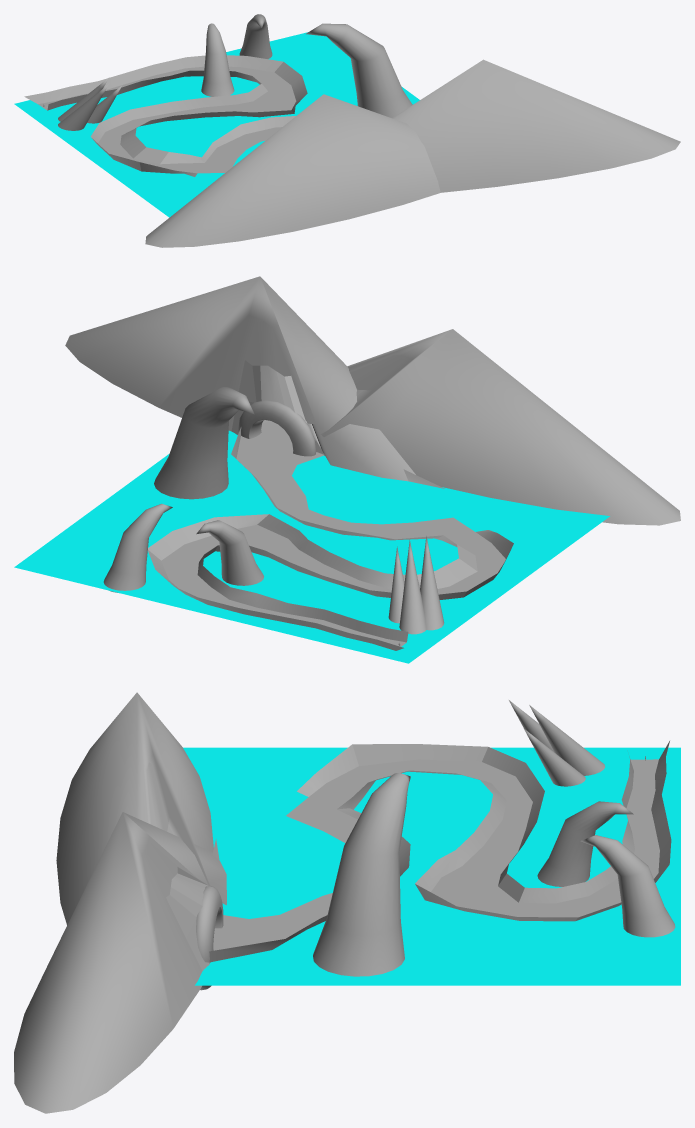
File: map no building.fbx
3 renders of one model, top to bottom at view 1: azimuth 30°, elevation 25°; view 2: azimuth 150°, elevation 25°; view 3: azimuth 270°, elevation 25°, orthographic. The views are drawn at different scales.
Visible parts, largest first — view 1: mountain, mountain1, ground, road, ice_stone1, ice_stone, ice_stone2, icestone1, icestone2; view 2: ground, mountain, mountain1, road, ice_stone1, ice_stone2, ice_stone, cave_entrance, icestone, icestone1, icestone2; view 3: ground, mountain1, road, mountain, ice_stone1, ice_stone2, ice_stone, icestone, cave_entrance, icestone2.
Boxes of the visible parts, x1,y1,x2,y2 form: mountain: (145, 94, 440, 247); mountain1: (392, 59, 680, 192); ground: (14, 32, 419, 217); road: (24, 55, 307, 176); ice_stone1: (306, 23, 412, 117); ice_stone: (201, 23, 234, 96); ice_stone2: (239, 14, 272, 58); icestone1: (58, 84, 108, 130); icestone2: (87, 85, 122, 123); ground: (14, 430, 609, 663); mountain: (315, 329, 680, 525); mountain1: (65, 276, 444, 488); road: (147, 421, 513, 650); ice_stone1: (154, 387, 254, 499); ice_stone2: (103, 503, 172, 592); ice_stone: (196, 520, 263, 585); cave_entrance: (238, 400, 316, 456); icestone: (399, 540, 426, 634); icestone1: (420, 536, 444, 630); icestone2: (388, 546, 404, 623); ground: (183, 747, 680, 985); mountain1: (14, 812, 226, 1113); road: (209, 741, 671, 962); mountain: (56, 692, 213, 925); ice_stone1: (313, 773, 410, 976); ice_stone2: (580, 835, 675, 937); ice_stone: (537, 801, 633, 886); icestone: (529, 705, 605, 775); cave_entrance: (196, 886, 223, 990); icestone2: (524, 729, 585, 786).
Bounding box in the file's own units: 1468 × 356 × 1059.
